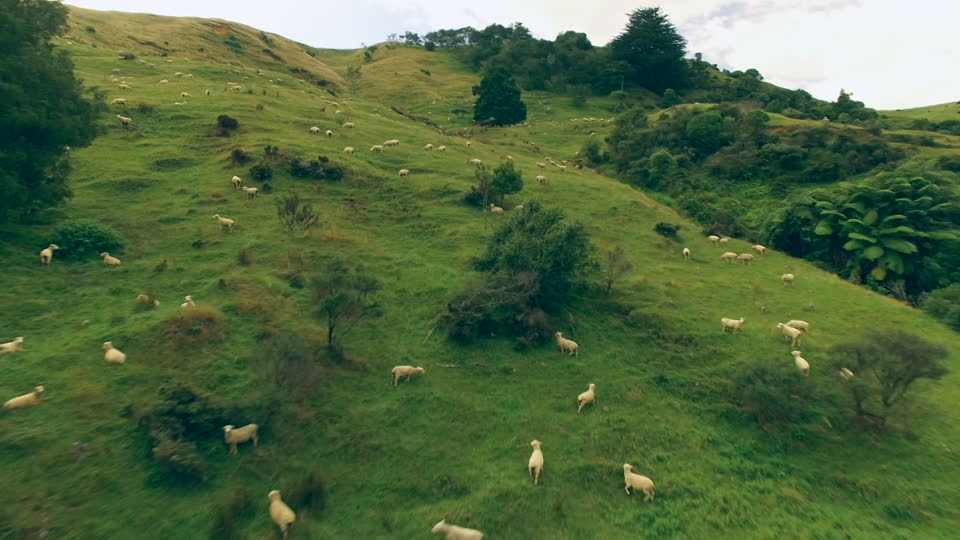sheep: (1, 385, 47, 419), (620, 464, 658, 500), (221, 420, 260, 452), (526, 440, 553, 481), (551, 329, 582, 358), (388, 365, 425, 386), (777, 320, 804, 346), (38, 243, 63, 268), (213, 211, 238, 235), (721, 315, 747, 337)
